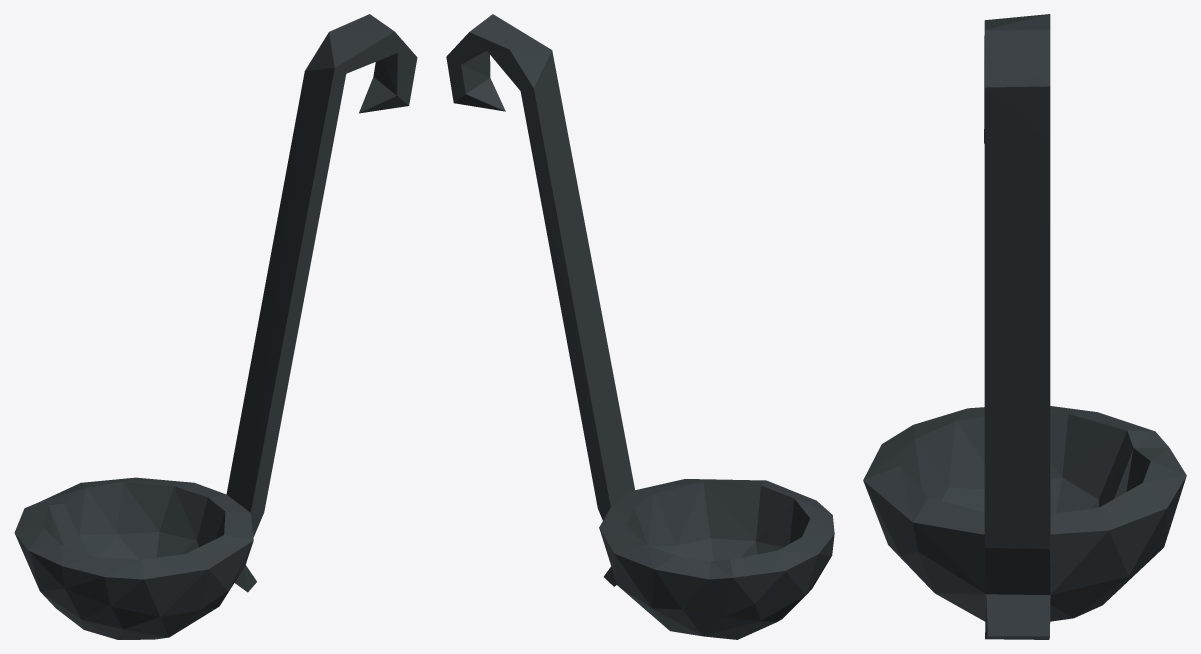
Rendered from MDungeon_Ladle.FBX.
The picture shows the model from 3 angles, left to right: view 1: azimuth 30°, elevation 25°; view 2: azimuth 150°, elevation 25°; view 3: azimuth 270°, elevation 25°; orthographic projection. The views are drawn at different scales.
Visible parts, largest first — view 1: MDungeon_Ladle_LOD0; view 2: MDungeon_Ladle_LOD0; view 3: MDungeon_Ladle_LOD0.
Part boxes in pixels (bbox=[...]): MDungeon_Ladle_LOD0: bbox=[14, 14, 417, 639]; MDungeon_Ladle_LOD0: bbox=[446, 14, 834, 639]; MDungeon_Ladle_LOD0: bbox=[863, 14, 1186, 639].
Size of what is drawn, in the model's own units: 0.6502 by 0.9256 by 0.3665.
Materials: 1 (1 with a texture image).
